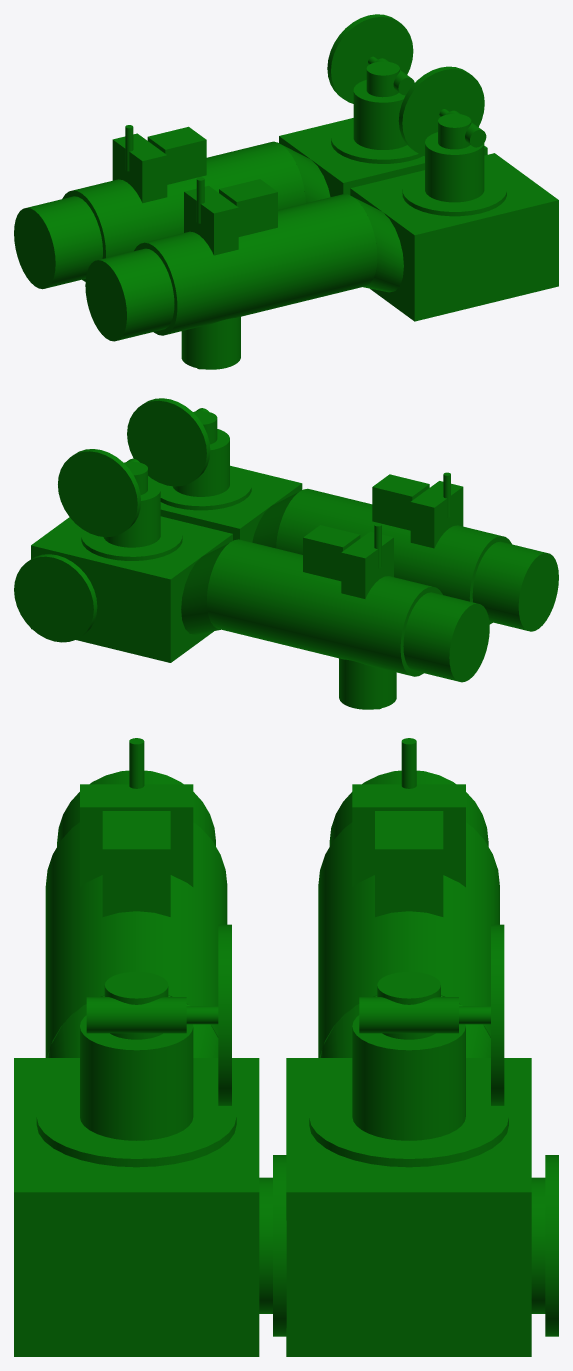
The model's file is Image-1710907701790-2280884542320_42-PF56.fbx.
3 views of the same model, one above another, from view 1: azimuth 30°, elevation 25°; view 2: azimuth 150°, elevation 25°; view 3: azimuth 270°, elevation 25° (orthographic). The views are drawn at different scales.
Parts seen in each view (by area): view 1: BOX 1 of SUBEQUIPMENT /42-PF56-STAGE2, CYLINDER 6 of SUBEQUIPMENT /42-PF56-STAGE2, CYLINDER 7 of SUBEQUIPMENT /42-PF56-STAGE1, CYLINDER 7 of SUBEQUIPMENT /42-PF56-STAGE2, CYLINDER 8 of SUBEQUIPMENT /42-PF56-STAGE1, CYLINDER 6 of SUBEQUIPMENT /42-PF56-STAGE1, CYLINDER 5 of SUBEQUIPMENT /42-PF56-STAGE2, BOX 1 of SUBEQUIPMENT /42-PF56-STAGE1, CYLINDER 4 of SUBEQUIPMENT /42-PF56-STAGE2, CYLINDER 2 of SUBEQUIPMENT /42-PF56-STAGE1, BOX 2 of SUBEQUIPMENT /42-PF56-STAGE1, BOX 3 of SUBEQUIPMENT /42-PF56-STAGE2 (+9 smaller); view 2: CYLINDER 7 of SUBEQUIPMENT /42-PF56-STAGE1, BOX 1 of SUBEQUIPMENT /42-PF56-STAGE1, CYLINDER 6 of SUBEQUIPMENT /42-PF56-STAGE2, CYLINDER 8 of SUBEQUIPMENT /42-PF56-STAGE1, CYLINDER 7 of SUBEQUIPMENT /42-PF56-STAGE2, CYLINDER 11 of SUBEQUIPMENT /42-PF56-STAGE1, CYLINDER 6 of SUBEQUIPMENT /42-PF56-STAGE1, CYLINDER 5 of SUBEQUIPMENT /42-PF56-STAGE2, BOX 1 of SUBEQUIPMENT /42-PF56-STAGE2, BOX 3 of SUBEQUIPMENT /42-PF56-STAGE2, BOX 2 of SUBEQUIPMENT /42-PF56-STAGE1, CYLINDER 9 of SUBEQUIPMENT /42-PF56-STAGE1 (+10 smaller); view 3: BOX 1 of SUBEQUIPMENT /42-PF56-STAGE2, BOX 1 of SUBEQUIPMENT /42-PF56-STAGE1, CYLINDER 6 of SUBEQUIPMENT /42-PF56-STAGE2, CYLINDER 7 of SUBEQUIPMENT /42-PF56-STAGE1, CYLINDER 2 of SUBEQUIPMENT /42-PF56-STAGE1, CYLINDER 4 of SUBEQUIPMENT /42-PF56-STAGE2, CYLINDER 3 of SUBEQUIPMENT /42-PF56-STAGE2, CYLINDER 1 of SUBEQUIPMENT /42-PF56-STAGE1, BOX 2 of SUBEQUIPMENT /42-PF56-STAGE2, BOX 3 of SUBEQUIPMENT /42-PF56-STAGE1, BOX 3 of SUBEQUIPMENT /42-PF56-STAGE2, BOX 2 of SUBEQUIPMENT /42-PF56-STAGE1 (+16 smaller).
Part boxes in pixels (x1,y1,x2,y2): BOX 1 of SUBEQUIPMENT /42-PF56-STAGE2: (350,153,558,321); CYLINDER 6 of SUBEQUIPMENT /42-PF56-STAGE2: (134,194,377,335); CYLINDER 7 of SUBEQUIPMENT /42-PF56-STAGE1: (62,141,305,281); CYLINDER 7 of SUBEQUIPMENT /42-PF56-STAGE2: (85,248,174,341); CYLINDER 8 of SUBEQUIPMENT /42-PF56-STAGE1: (14,196,102,289); CYLINDER 6 of SUBEQUIPMENT /42-PF56-STAGE1: (327,14,413,103); CYLINDER 5 of SUBEQUIPMENT /42-PF56-STAGE2: (398,66,484,155); BOX 1 of SUBEQUIPMENT /42-PF56-STAGE1: (279,118,487,196); CYLINDER 4 of SUBEQUIPMENT /42-PF56-STAGE2: (425,132,484,202); CYLINDER 2 of SUBEQUIPMENT /42-PF56-STAGE1: (353,80,406,149); BOX 2 of SUBEQUIPMENT /42-PF56-STAGE1: (112,133,167,203); BOX 3 of SUBEQUIPMENT /42-PF56-STAGE2: (184,185,238,255); CYLINDER 7 of SUBEQUIPMENT /42-PF56-STAGE1: (206,539,442,676); BOX 1 of SUBEQUIPMENT /42-PF56-STAGE1: (31,516,232,662); CYLINDER 6 of SUBEQUIPMENT /42-PF56-STAGE2: (276,488,511,624); CYLINDER 8 of SUBEQUIPMENT /42-PF56-STAGE1: (403,592,489,682); CYLINDER 7 of SUBEQUIPMENT /42-PF56-STAGE2: (472,541,558,631); CYLINDER 11 of SUBEQUIPMENT /42-PF56-STAGE1: (14,554,97,642); CYLINDER 6 of SUBEQUIPMENT /42-PF56-STAGE1: (58,449,140,537); CYLINDER 5 of SUBEQUIPMENT /42-PF56-STAGE2: (127,398,210,486); BOX 1 of SUBEQUIPMENT /42-PF56-STAGE2: (148,465,302,542); BOX 3 of SUBEQUIPMENT /42-PF56-STAGE2: (410,481,463,548); BOX 2 of SUBEQUIPMENT /42-PF56-STAGE1: (341,531,393,598); CYLINDER 9 of SUBEQUIPMENT /42-PF56-STAGE1: (339,658,396,709); BOX 1 of SUBEQUIPMENT /42-PF56-STAGE2: (14,1058,259,1356); BOX 1 of SUBEQUIPMENT /42-PF56-STAGE1: (286,1058,531,1356); CYLINDER 6 of SUBEQUIPMENT /42-PF56-STAGE2: (45,822,227,1057); CYLINDER 7 of SUBEQUIPMENT /42-PF56-STAGE1: (318,822,499,1057); CYLINDER 2 of SUBEQUIPMENT /42-PF56-STAGE1: (352,1015,465,1140); CYLINDER 4 of SUBEQUIPMENT /42-PF56-STAGE2: (80,1015,193,1140); CYLINDER 3 of SUBEQUIPMENT /42-PF56-STAGE2: (36,1082,236,1167); CYLINDER 1 of SUBEQUIPMENT /42-PF56-STAGE1: (309,1082,508,1167); BOX 2 of SUBEQUIPMENT /42-PF56-STAGE2: (102,811,170,916); BOX 3 of SUBEQUIPMENT /42-PF56-STAGE1: (375,811,443,916); BOX 3 of SUBEQUIPMENT /42-PF56-STAGE2: (80,784,193,886); BOX 2 of SUBEQUIPMENT /42-PF56-STAGE1: (352,784,465,887).
Bounding box in the file's own units: 2.09 × 1.2 × 1.01.
